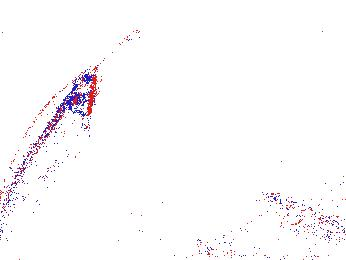glassfish: (1, 67, 98, 233), (262, 189, 346, 243)
siberian prawn: (194, 209, 294, 260)
